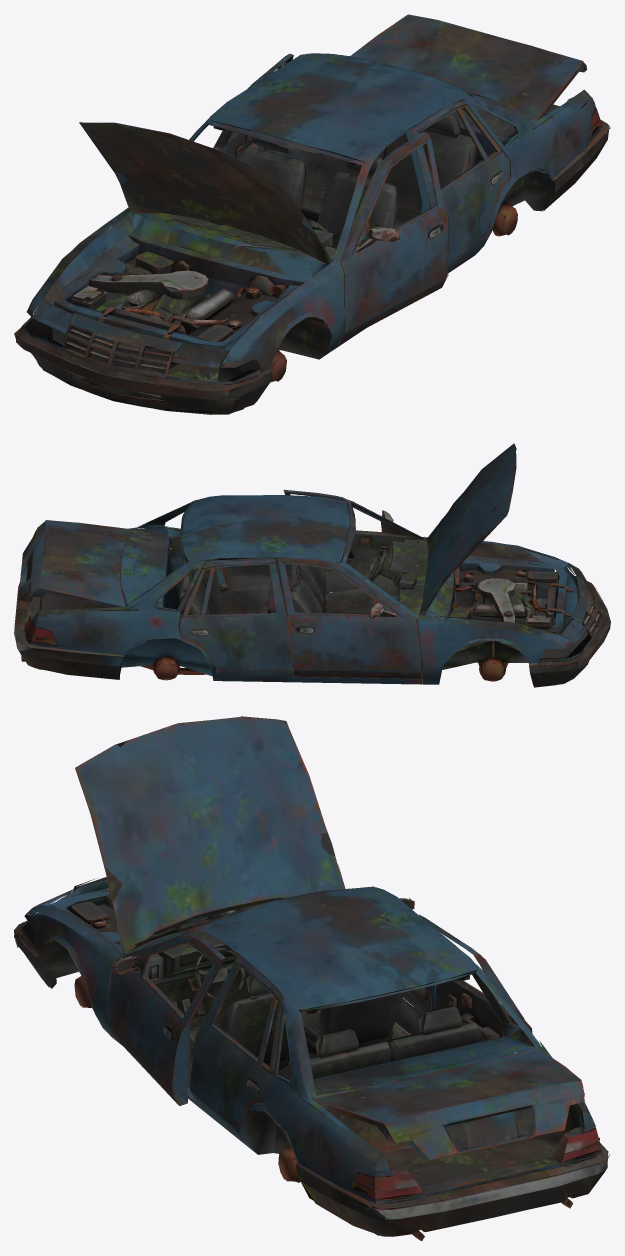
The model's file is carcaca.gltf.
3 renders of one model, top to bottom at view 1: azimuth 30°, elevation 25°; view 2: azimuth 150°, elevation 25°; view 3: azimuth 270°, elevation 25°, orthographic. The views are drawn at different scales.
Parts seen in each view (by area): view 1: carcaca; view 2: carcaca; view 3: carcaca.
Boxes of the visible parts, left/top/right/bottom form: carcaca: left=14, top=14, right=610, bottom=414; carcaca: left=14, top=443, right=610, bottom=687; carcaca: left=14, top=716, right=609, bottom=1240.
Bounding box in the file's own units: 4.15 × 1.45 × 3.04.
2 materials, 2 textured.
